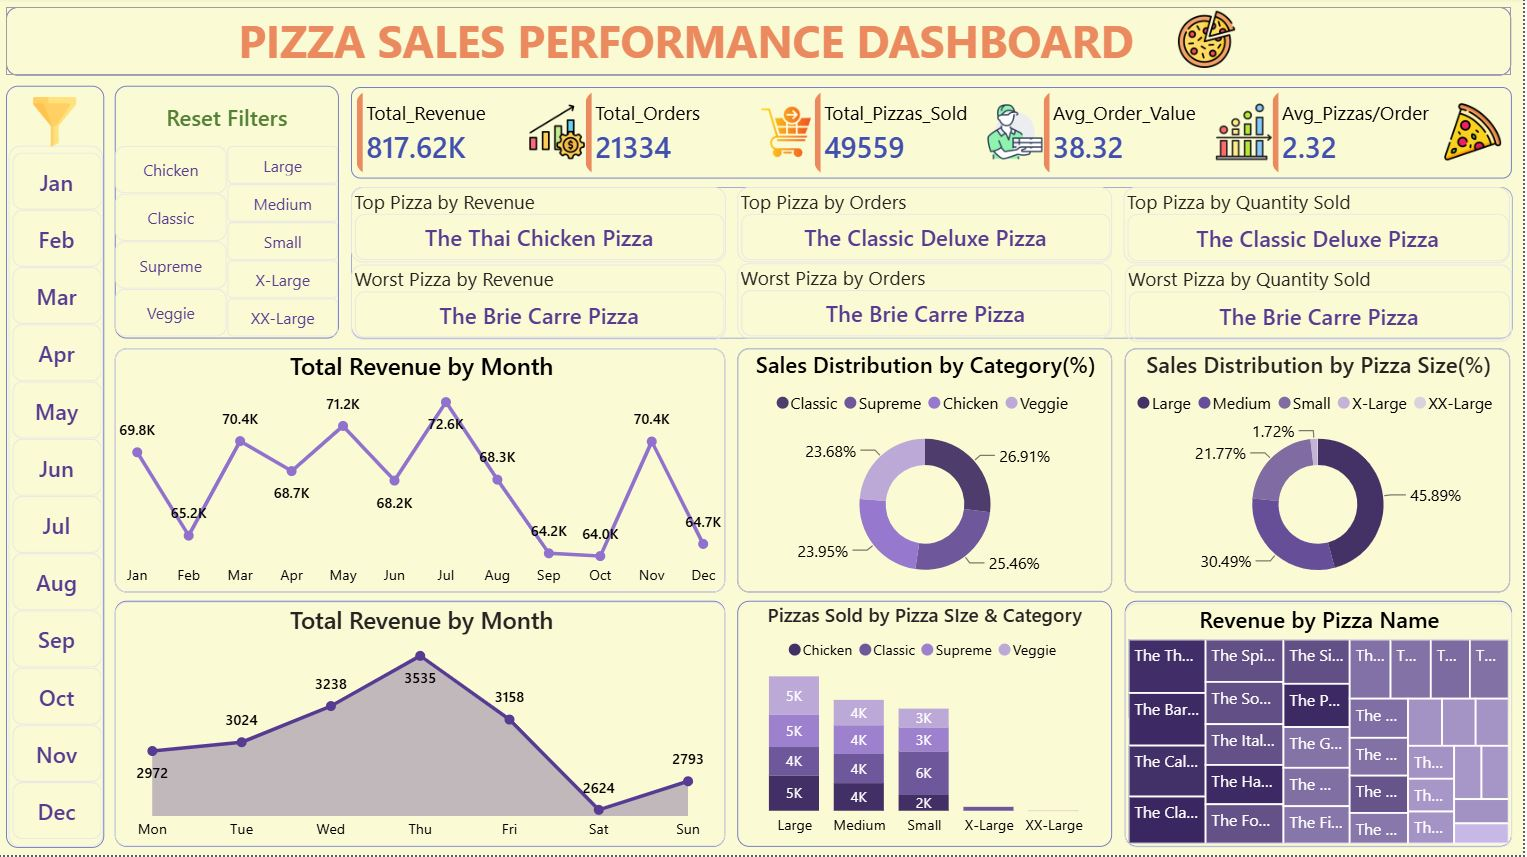

What the dashboard file says about the page in this screenshot:
{"tool":"powerbi","page":{"name":"DashBoard","canvas":[1280,720],"ordinal":0},"visuals":[{"type":"shape","box":[8.4,74.3,82.7,638.8],"z":0},{"type":"shape","box":[8.4,8.4,1262,57.5],"z":1000},{"type":"shape","box":[99.5,74.3,188.2,212.1],"z":2000},{"type":"shape","box":[297.2,159.4,974.4,127],"z":3000},{"type":"shape","box":[621.8,294.3,314.5,204.9],"z":6000},{"type":"shape","box":[621.8,506.4,314.5,206.3],"z":7000},{"type":"shape","box":[946.8,294.8,323.6,204.9],"z":8000},{"type":"shape","box":[946.5,506.4,324.6,206.3],"z":9000},{"type":"shape","box":[99.6,294.3,512,204.9],"z":10000},{"type":"shape","box":[99.6,506.4,512,206.3],"z":11000},{"type":"cardVisual","fields":{"Data":["PIZZA SALES.Total_Sales","PIZZA SALES.Total_Orders","PIZZA SALES.Total_Pizzas_Sold","PIZZA SALES.Average_Pizza_Value","PIZZA SALES.Average_Pizzas_Per_Order"]},"box":[297.2,75,973.9,76.5],"z":12000},{"type":"lineChart","title":"Total Revenue by Month","fields":{"Category":["PIZZA SALES.Month Name"],"Y":["PIZZA SALES.Total_Revenue"]},"box":[99.6,294.3,512.2,204.9],"z":12001},{"type":"lineChart","title":"Total Revenue by Month","fields":{"Y":["PIZZA SALES.Total_Orders"],"Category":["PIZZA SALES.Day Name"]},"box":[99.6,507.9,512.2,204.9],"z":12002},{"type":"donutChart","title":"Sales Distribution by Category(%)","fields":{"Category":["PIZZA SALES.pizza_category"],"Y":["PIZZA SALES.Total_Revenue"]},"box":[621.8,294.3,314.5,204.9],"z":12003},{"type":"donutChart","title":"Sales Distribution by Pizza Size(%)","fields":{"Y":["PIZZA SALES.Total_Revenue"],"Category":["PIZZA SALES.Pizza_SIze"]},"box":[946.8,294.8,323.6,204.9],"z":12004},{"type":"columnChart","title":"Pizzas Sold by Pizza SIze & Category","fields":{"Category":["PIZZA SALES.Pizza_SIze"],"Y":["PIZZA SALES.Total_Pizzas_Sold"],"Series":["PIZZA SALES.pizza_category"]},"box":[621.8,506.4,314.5,206.3],"z":12005},{"type":"treemap","title":"Revenue by Pizza Name","fields":{"Group":["PIZZA SALES.pizza_name"],"Values":["PIZZA SALES.Total_Revenue"]},"box":[946.8,508.2,324.8,204.9],"z":12006},{"type":"advancedSlicerVisual","fields":{"Values":["PIZZA SALES.Month Name"]},"box":[10.3,125.2,79.3,588.1],"z":12007},{"type":"advancedSlicerVisual","title":"Top Pizza by Revenue","fields":{"Values":["PIZZA SALES.pizza_name"]},"box":[297.2,159.4,314,63.5],"z":12008},{"type":"advancedSlicerVisual","title":"Worst Pizza by Revenue","fields":{"Values":["PIZZA SALES.pizza_name"]},"box":[297.2,224.1,314,63.5],"z":12009},{"type":"advancedSlicerVisual","title":"Top Pizza by Orders","fields":{"Values":["PIZZA SALES.pizza_name"]},"box":[622,159.4,314,63.5],"z":12010},{"type":"advancedSlicerVisual","title":"Worst Pizza by Orders","fields":{"Values":["PIZZA SALES.pizza_name"]},"box":[622,222.9,314,63.5],"z":12011},{"type":"advancedSlicerVisual","title":"Top Pizza by Quantity Sold","fields":{"Values":["PIZZA SALES.pizza_name"]},"box":[945.8,159.3,324.3,64],"z":12012},{"type":"advancedSlicerVisual","title":"Worst Pizza by Quantity Sold","fields":{"Values":["PIZZA SALES.pizza_name"]},"box":[946.8,224.1,324.8,64.7],"z":12013},{"type":"advancedSlicerVisual","fields":{"Values":["PIZZA SALES.pizza_category"]},"box":[99.9,125.2,94.2,160.8],"z":12014},{"type":"advancedSlicerVisual","fields":{"Values":["PIZZA SALES.Pizza_SIze"]},"box":[194.2,124.6,93.5,161.8],"z":12015},{"type":"actionButton","box":[99.5,75.5,188.2,50.3],"z":12016},{"type":"textbox","box":[194.1,8,768.5,57.4],"z":12017},{"type":"image","box":[973.2,12,85.1,47.9],"z":12018},{"type":"image","box":[8,83.9,81.6,41.4],"z":12019}]}

Visuals, with their boxes in screenshot pixels (x1, y1, x2, y2), scaled from the page's 1280x720 canvas onto the 1527x857 screenshot:
shape: <region>10, 88, 109, 849</region>
shape: <region>10, 10, 1516, 78</region>
shape: <region>119, 88, 343, 341</region>
shape: <region>355, 190, 1517, 341</region>
shape: <region>742, 350, 1117, 594</region>
shape: <region>742, 603, 1117, 848</region>
shape: <region>1130, 351, 1516, 595</region>
shape: <region>1129, 603, 1516, 848</region>
shape: <region>119, 350, 730, 594</region>
shape: <region>119, 603, 730, 848</region>
cardVisual - PIZZA SALES.Total_Sales x PIZZA SALES.Total_Orders: <region>355, 89, 1516, 180</region>
"Total Revenue by Month" lineChart: <region>119, 350, 730, 594</region>
"Total Revenue by Month" lineChart: <region>119, 605, 730, 848</region>
"Sales Distribution by Category(%)" donutChart: <region>742, 350, 1117, 594</region>
"Sales Distribution by Pizza Size(%)" donutChart: <region>1130, 351, 1516, 595</region>
"Pizzas Sold by Pizza SIze & Category" columnChart: <region>742, 603, 1117, 848</region>
"Revenue by Pizza Name" treemap: <region>1130, 605, 1517, 849</region>
advancedSlicerVisual - PIZZA SALES.Month Name: <region>12, 149, 107, 849</region>
"Top Pizza by Revenue" advancedSlicerVisual: <region>355, 190, 729, 265</region>
"Worst Pizza by Revenue" advancedSlicerVisual: <region>355, 267, 729, 342</region>
"Top Pizza by Orders" advancedSlicerVisual: <region>742, 190, 1117, 265</region>
"Worst Pizza by Orders" advancedSlicerVisual: <region>742, 265, 1117, 341</region>
"Top Pizza by Quantity Sold" advancedSlicerVisual: <region>1128, 190, 1515, 266</region>
"Worst Pizza by Quantity Sold" advancedSlicerVisual: <region>1130, 267, 1517, 344</region>
advancedSlicerVisual - PIZZA SALES.pizza_category: <region>119, 149, 232, 340</region>
advancedSlicerVisual - PIZZA SALES.Pizza_SIze: <region>232, 148, 343, 341</region>
actionButton: <region>119, 90, 343, 150</region>
textbox: <region>232, 10, 1148, 78</region>
image: <region>1161, 14, 1263, 71</region>
image: <region>10, 100, 107, 149</region>
